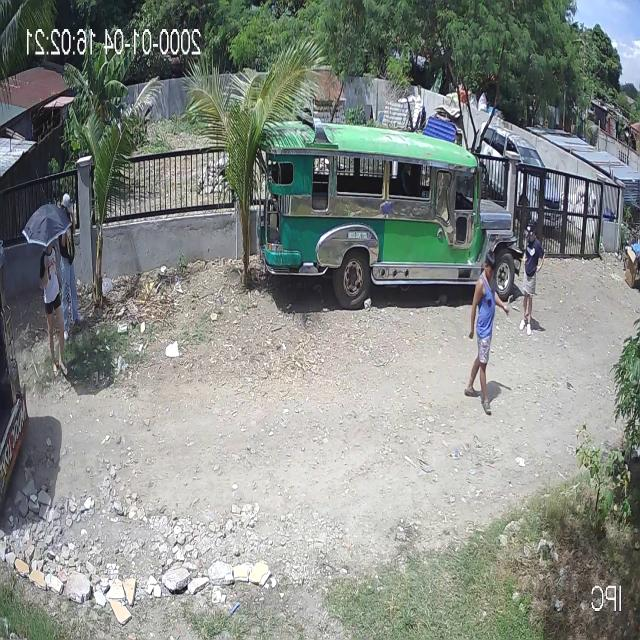standing: (59, 190, 82, 344), (517, 221, 544, 339)
walking: (463, 248, 499, 416), (38, 234, 63, 381)
